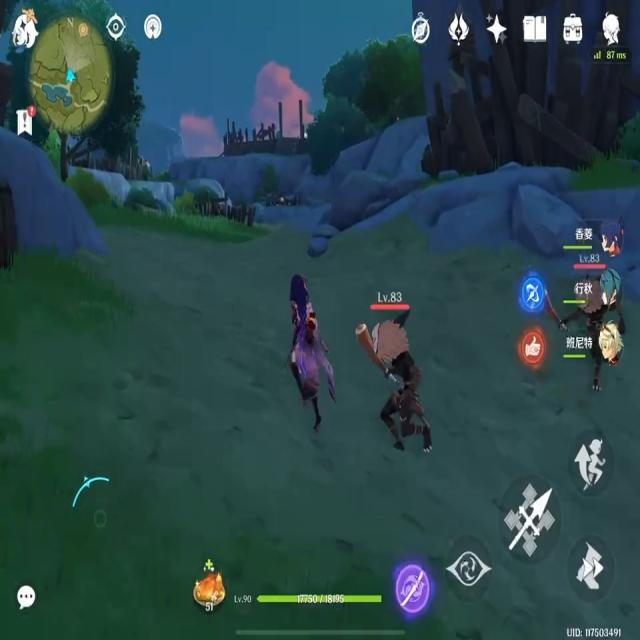genshin-hilichurls: (354, 318, 442, 464)
